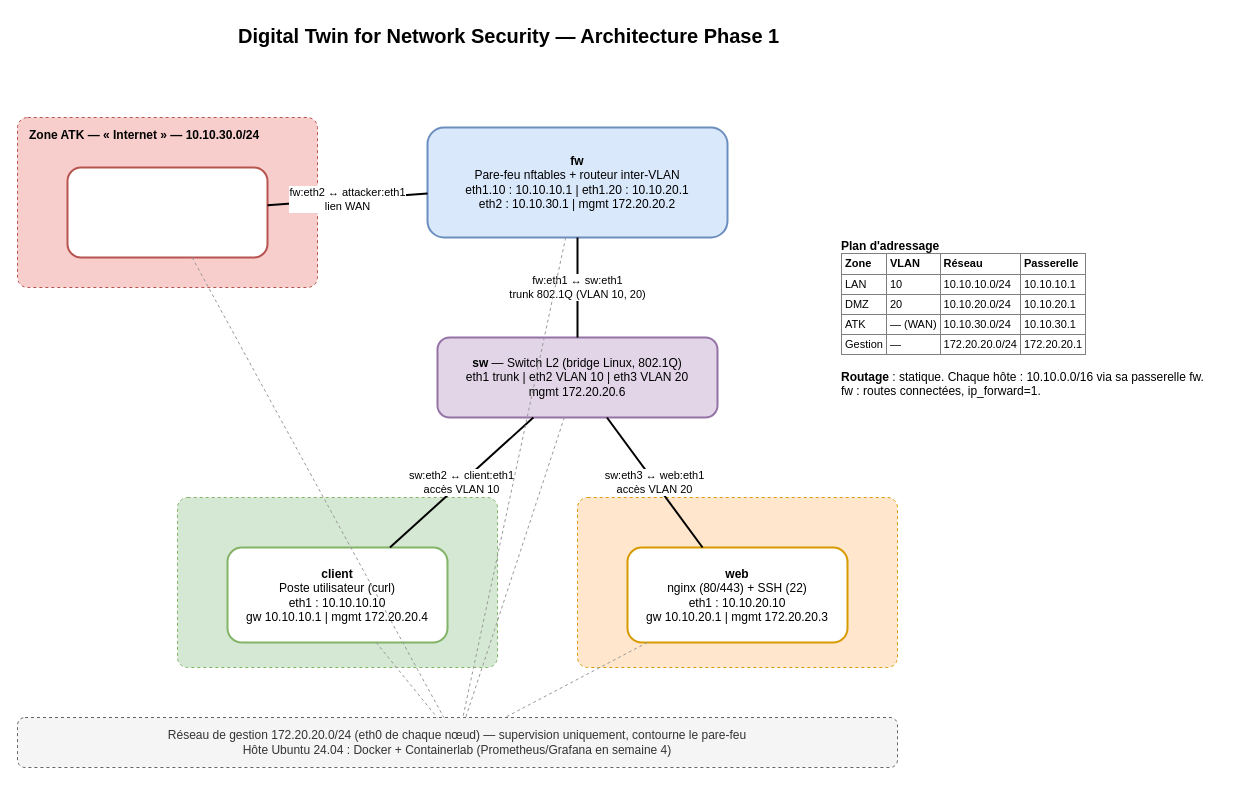
Image size: 1259x785. Some labels were removed from this diagram. The box of each missing label's shape, as (x1, y1, x2, y2) in pixels:
attacker nmap, hydra, ab eth1 : 10.10.30.10 mgmt 172.20.20.5: (66, 166, 268, 258)
Zone DMZ — VLAN 20 — 10.10.20.0/24: (576, 496, 898, 668)
Zone LAN — VLAN 10 — 10.10.10.0/24: (176, 496, 498, 668)
